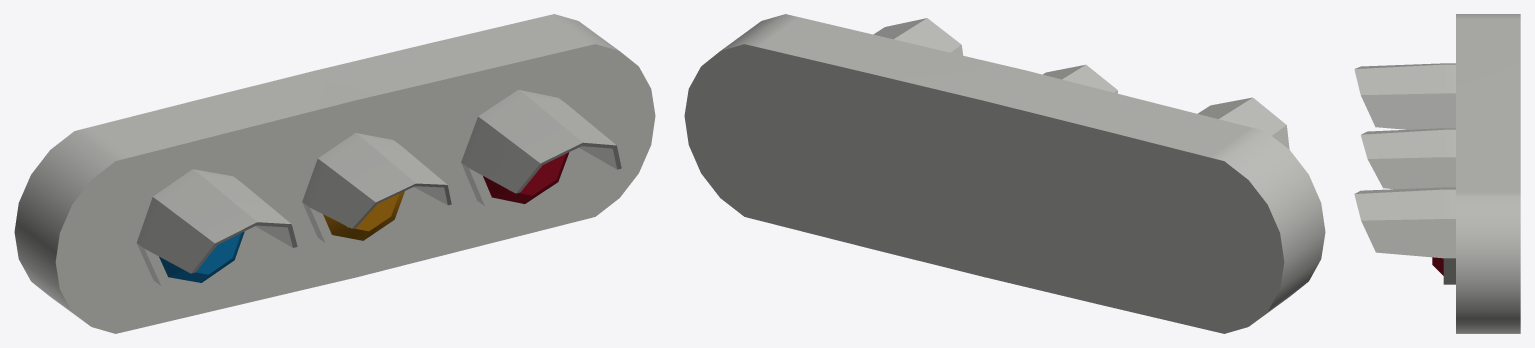
Rendered from TrafficLight.fbx.
3 views of the same model, side by side, from view 1: azimuth 30°, elevation 25°; view 2: azimuth 150°, elevation 25°; view 3: azimuth 270°, elevation 25° (orthographic). The views are drawn at different scales.
Visible parts, largest first — view 1: TrafficLight; view 2: TrafficLight; view 3: TrafficLight.
Boxes of the visible parts, x1=… form: TrafficLight: x1=14, y1=14, x2=655, y2=333; TrafficLight: x1=684, y1=14, x2=1325, y2=333; TrafficLight: x1=1354, y1=14, x2=1520, y2=333.
Bounding box in the file's own units: 323 × 91.2 × 98.63.
